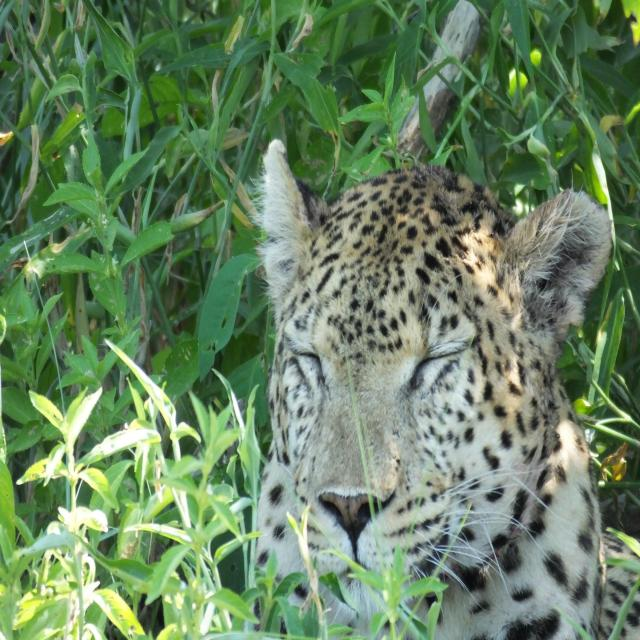Leopard: (243, 143, 631, 640)
